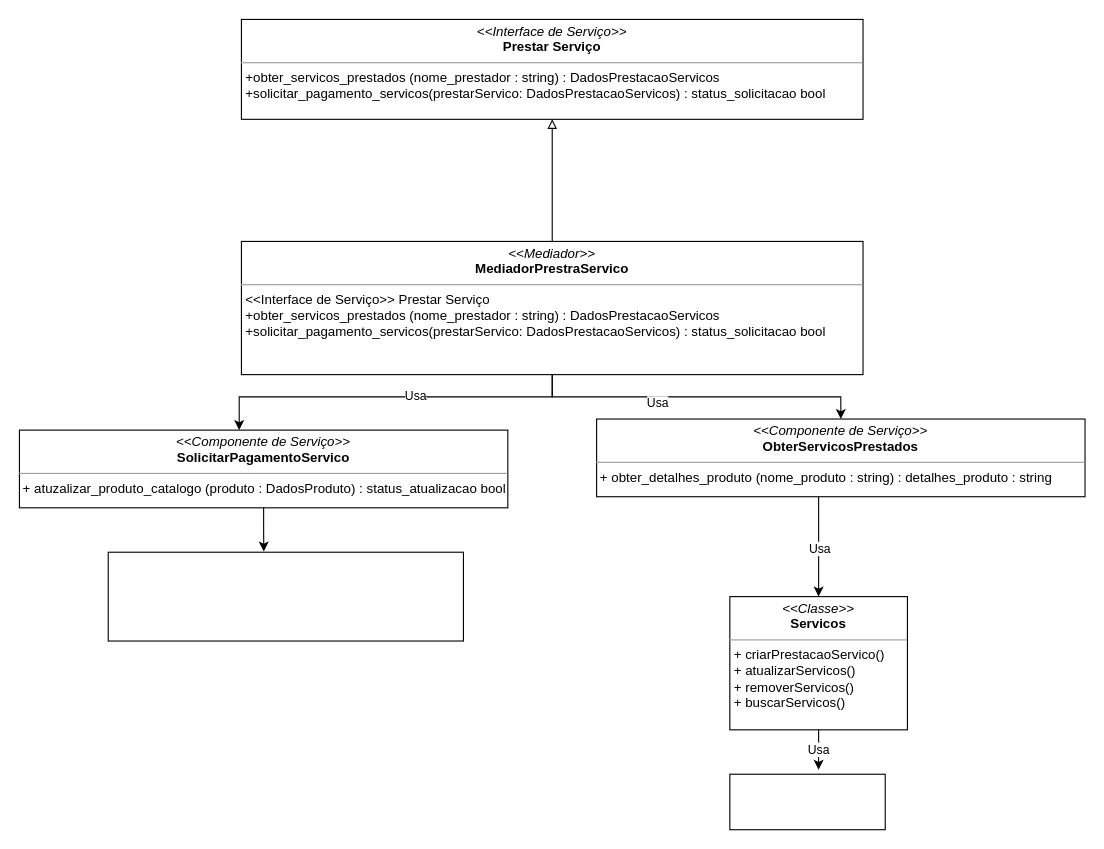
Image size: 1104x849. Some labels were removed from this diagram. Here are the shapes that lost their labels. From the top down, the centre of each, then its label:
At pixel 285 596: "<<API>> PagamentosAPI + enviarIformacoesDePagamentoAoBancoPorAPI()".
At pixel 807 801: "<<Node>> BancoDados".
